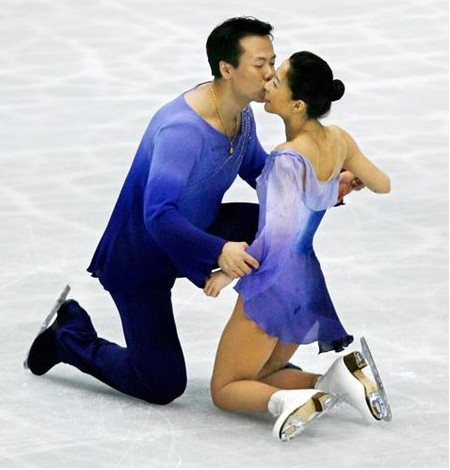face: (232, 36, 274, 102), (264, 63, 300, 118)
